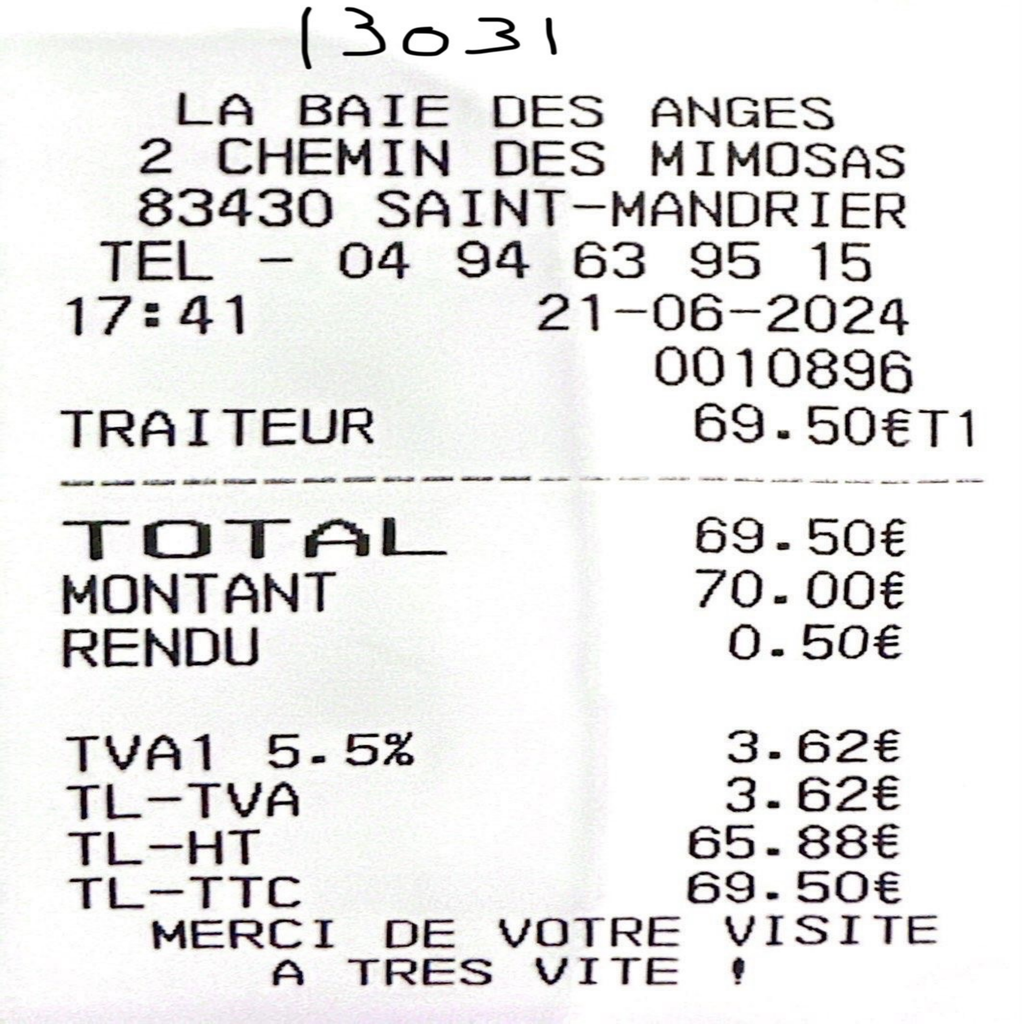recipt: (6, 8, 1009, 1005)
